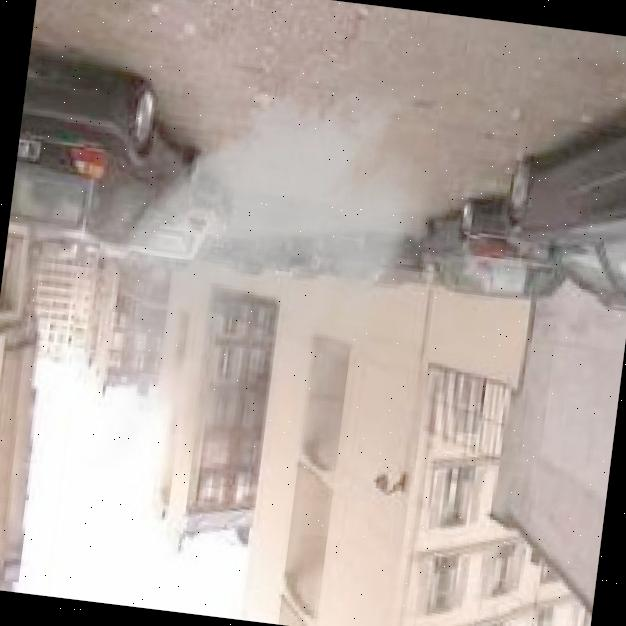smoke: (47, 42, 465, 507)
